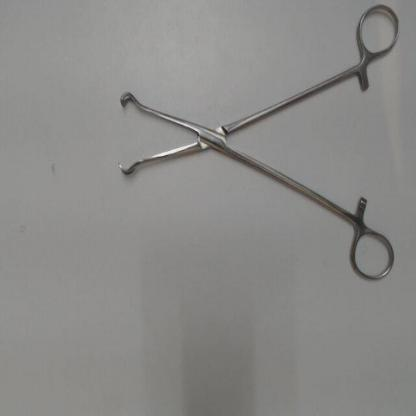8 Babcock Tissue Forceps: (112, 2, 404, 293)
